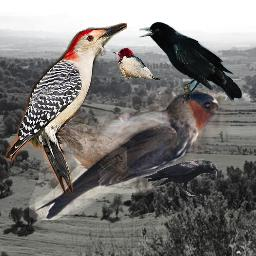Crow: (139, 22, 242, 104), (141, 159, 217, 196)
Swallow: (29, 90, 230, 220)
Woodpecker: (4, 23, 127, 198), (112, 48, 163, 80)
